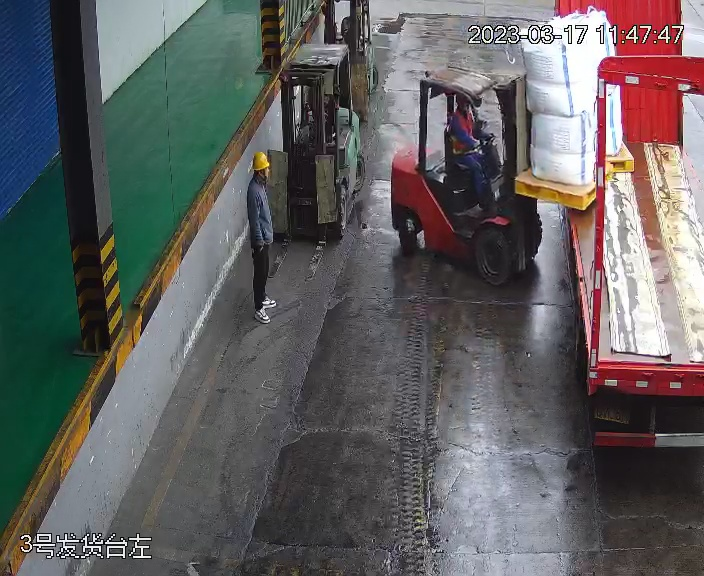head: (245, 149, 270, 206)
helmet: (251, 150, 271, 171)
people: (447, 91, 503, 217), (244, 150, 279, 324)
truck: (553, 2, 704, 456)
